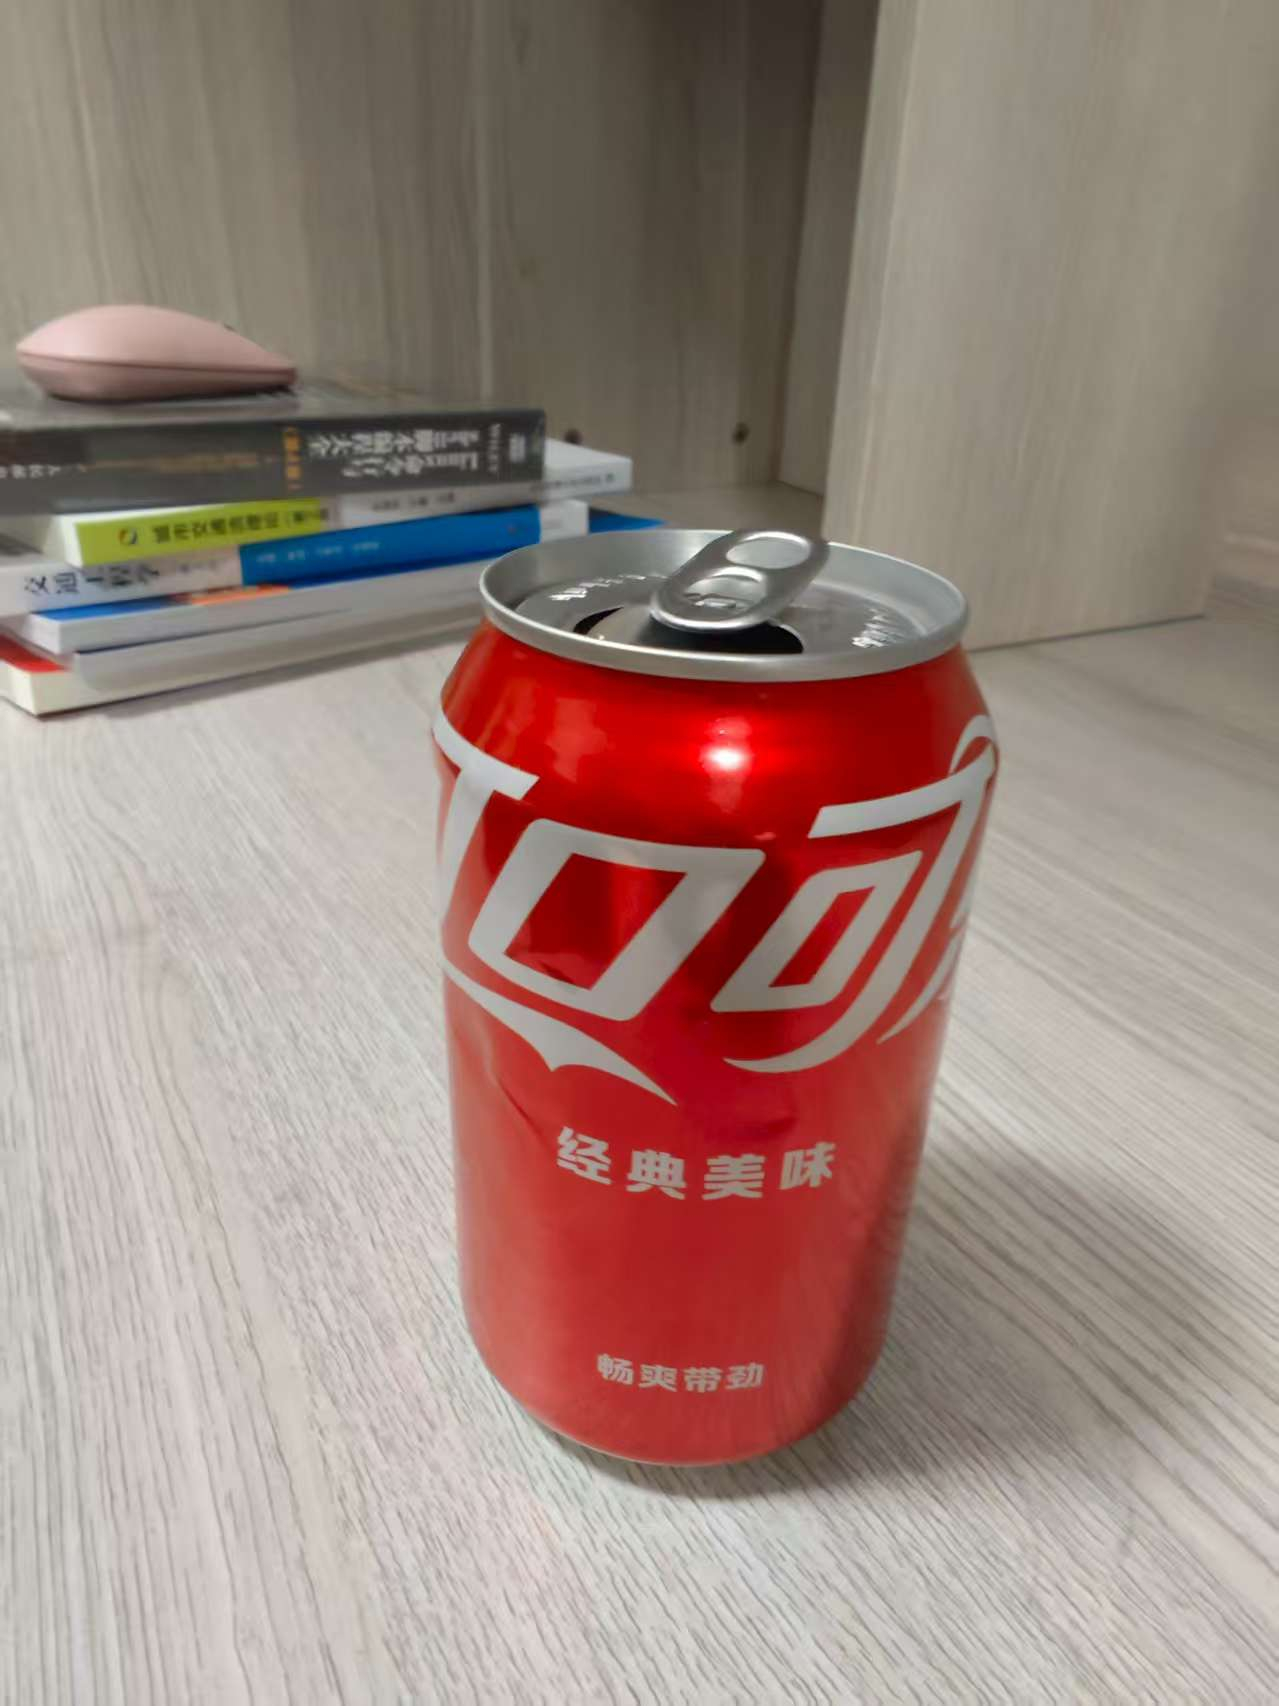可乐: (437, 510, 994, 1514)
